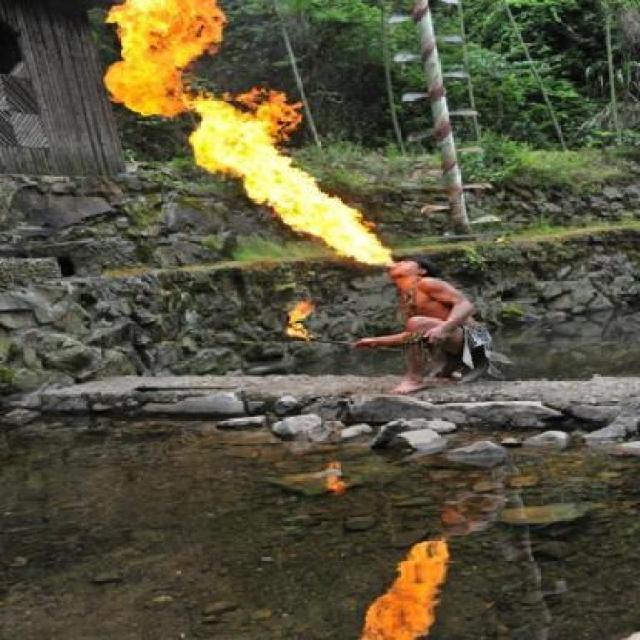Fire: (99, 0, 398, 272), (361, 541, 454, 639), (280, 296, 312, 338), (316, 454, 347, 494)
